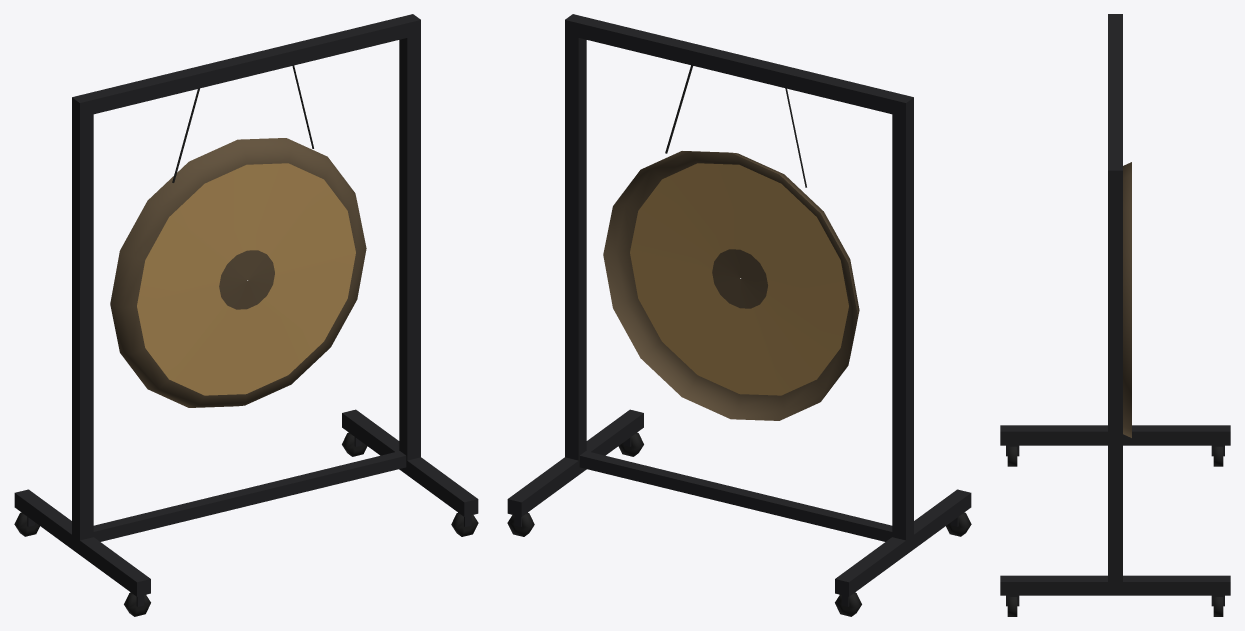
Rendered from gong-36-low.glb.
The picture shows the model from 3 angles, left to right: view 1: azimuth 30°, elevation 25°; view 2: azimuth 150°, elevation 25°; view 3: azimuth 270°, elevation 25°; orthographic projection. The views are drawn at different scales.
Parts seen in each view (by area): view 1: frame, gong, gong-dark, rubber; view 2: frame, gong, gong-dark, rubber; view 3: frame, gong-dark, rubber.
Boxes of the visible parts, <box> form: frame: <box>14,14,478,606</box>; gong: <box>137,163,355,395</box>; gong-dark: <box>110,138,366,407</box>; rubber: <box>14,65,478,616</box>; frame: <box>507,14,971,606</box>; gong: <box>630,163,848,395</box>; gong-dark: <box>603,151,859,420</box>; rubber: <box>507,65,971,616</box>; frame: <box>1000,14,1230,606</box>; gong-dark: <box>1123,162,1131,437</box>; rubber: <box>1007,446,1223,616</box>.
Bounding box in the file's own units: 1.25 × 1.63 × 0.76.
